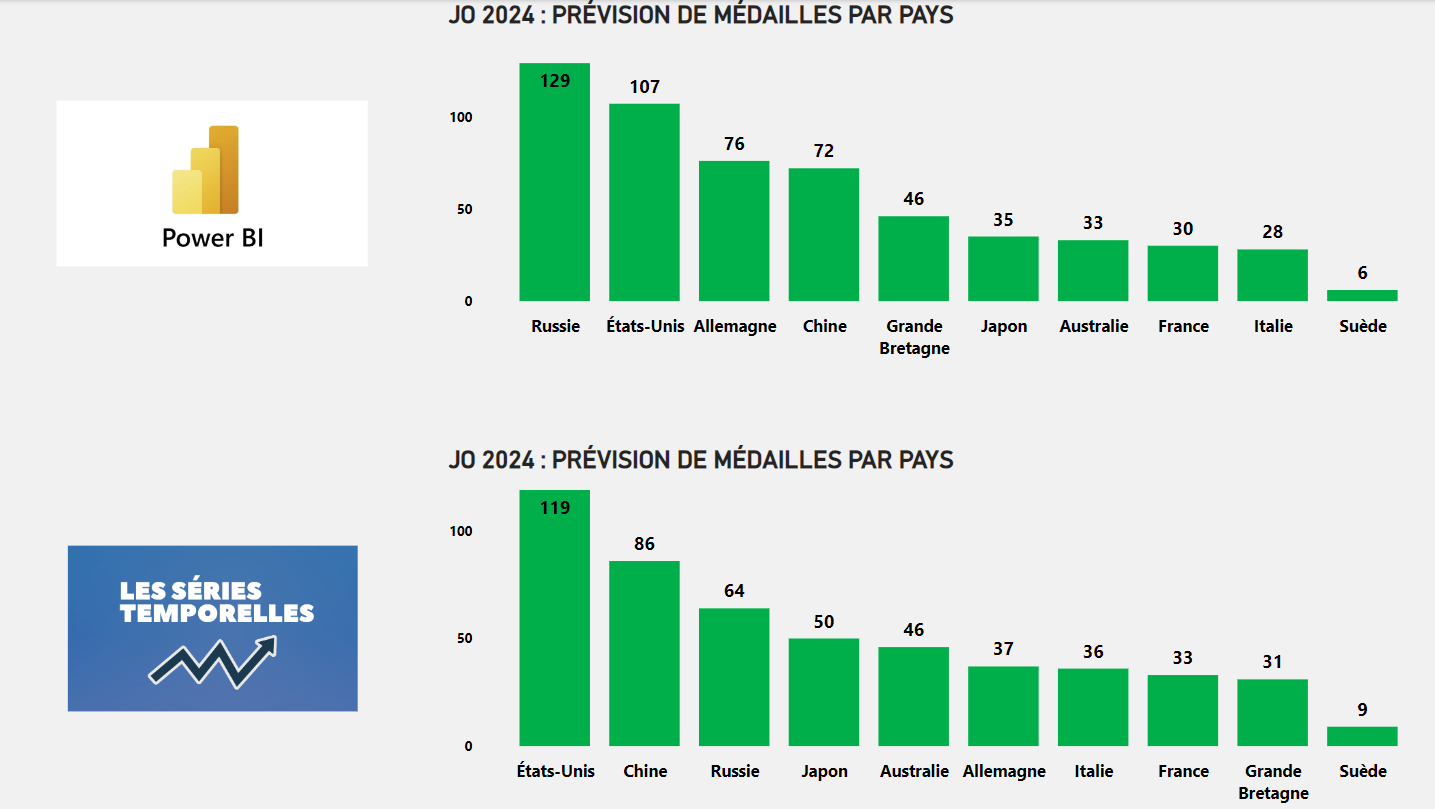

The page's visual inventory and layout, read from the dashboard file:
{"tool":"powerbi","page":{"name":"Prévisions","canvas":[1280,720],"ordinal":2},"visuals":[{"type":"columnChart","title":"JO PARIS 2024  :  PRÉVISION DE MÉDAILLES PAR PAYS","fields":{"Category":["Prévisions Power BI.Pays"],"Y":["Sum(Prévisions Power BI.Prévision)"]},"box":[395.5,0,884.5,326],"z":0},{"type":"image","box":[40.8,84.2,299.7,156.9],"z":1000},{"type":"columnChart","title":"JO PARIS 2024  :  PRÉVISION DE MÉDAILLES PAR PAYS","fields":{"Category":["Prévisions Modélisation.Pays"],"Y":["Sum(Prévisions Modélisation.Prévision)"]},"box":[395.5,394.5,884.5,326],"z":2000},{"type":"image","box":[24.8,478.8,331.6,156.9],"z":3000}]}

Visuals, with their boxes in screenshot pixels (x1, y1, x2, y2), scaled from the page's 1280x720 canvas onto the 1435x809 screenshot:
"JO PARIS 2024  :  PRÉVISION DE MÉDAILLES PAR PAYS" columnChart: (443, 0, 1434, 366)
image: (46, 95, 382, 271)
"JO PARIS 2024  :  PRÉVISION DE MÉDAILLES PAR PAYS" columnChart: (443, 443, 1434, 808)
image: (28, 538, 400, 714)
